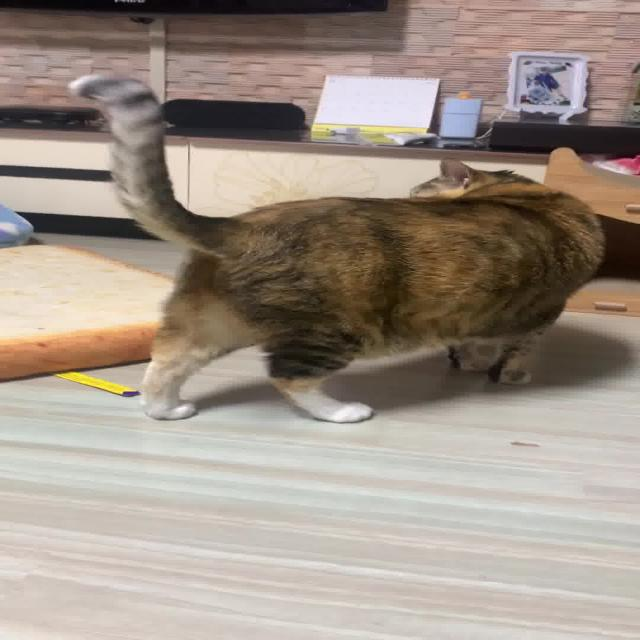cat: (55, 69, 608, 426)
